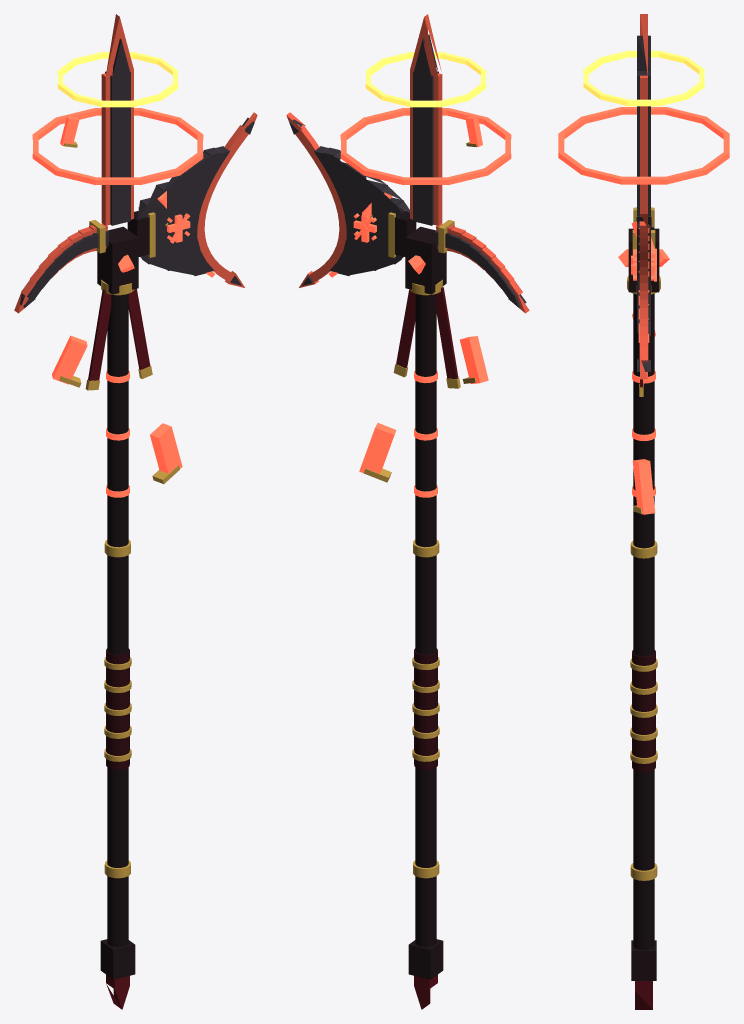
3 views of the same model, side by side, from view 1: azimuth 30°, elevation 25°; view 2: azimuth 150°, elevation 25°; view 3: azimuth 270°, elevation 25° (orthographic).
Parts seen in each view (by area): view 1: bastion-of-ruin; view 2: bastion-of-ruin; view 3: bastion-of-ruin.
Part boxes in pixels (x1,y1,x2,y2): bastion-of-ruin: [14, 14, 257, 1009]; bastion-of-ruin: [286, 14, 529, 1009]; bastion-of-ruin: [558, 14, 729, 1009].
Bounding box in the file's own units: 0.5601 × 2.22 × 0.3456.
